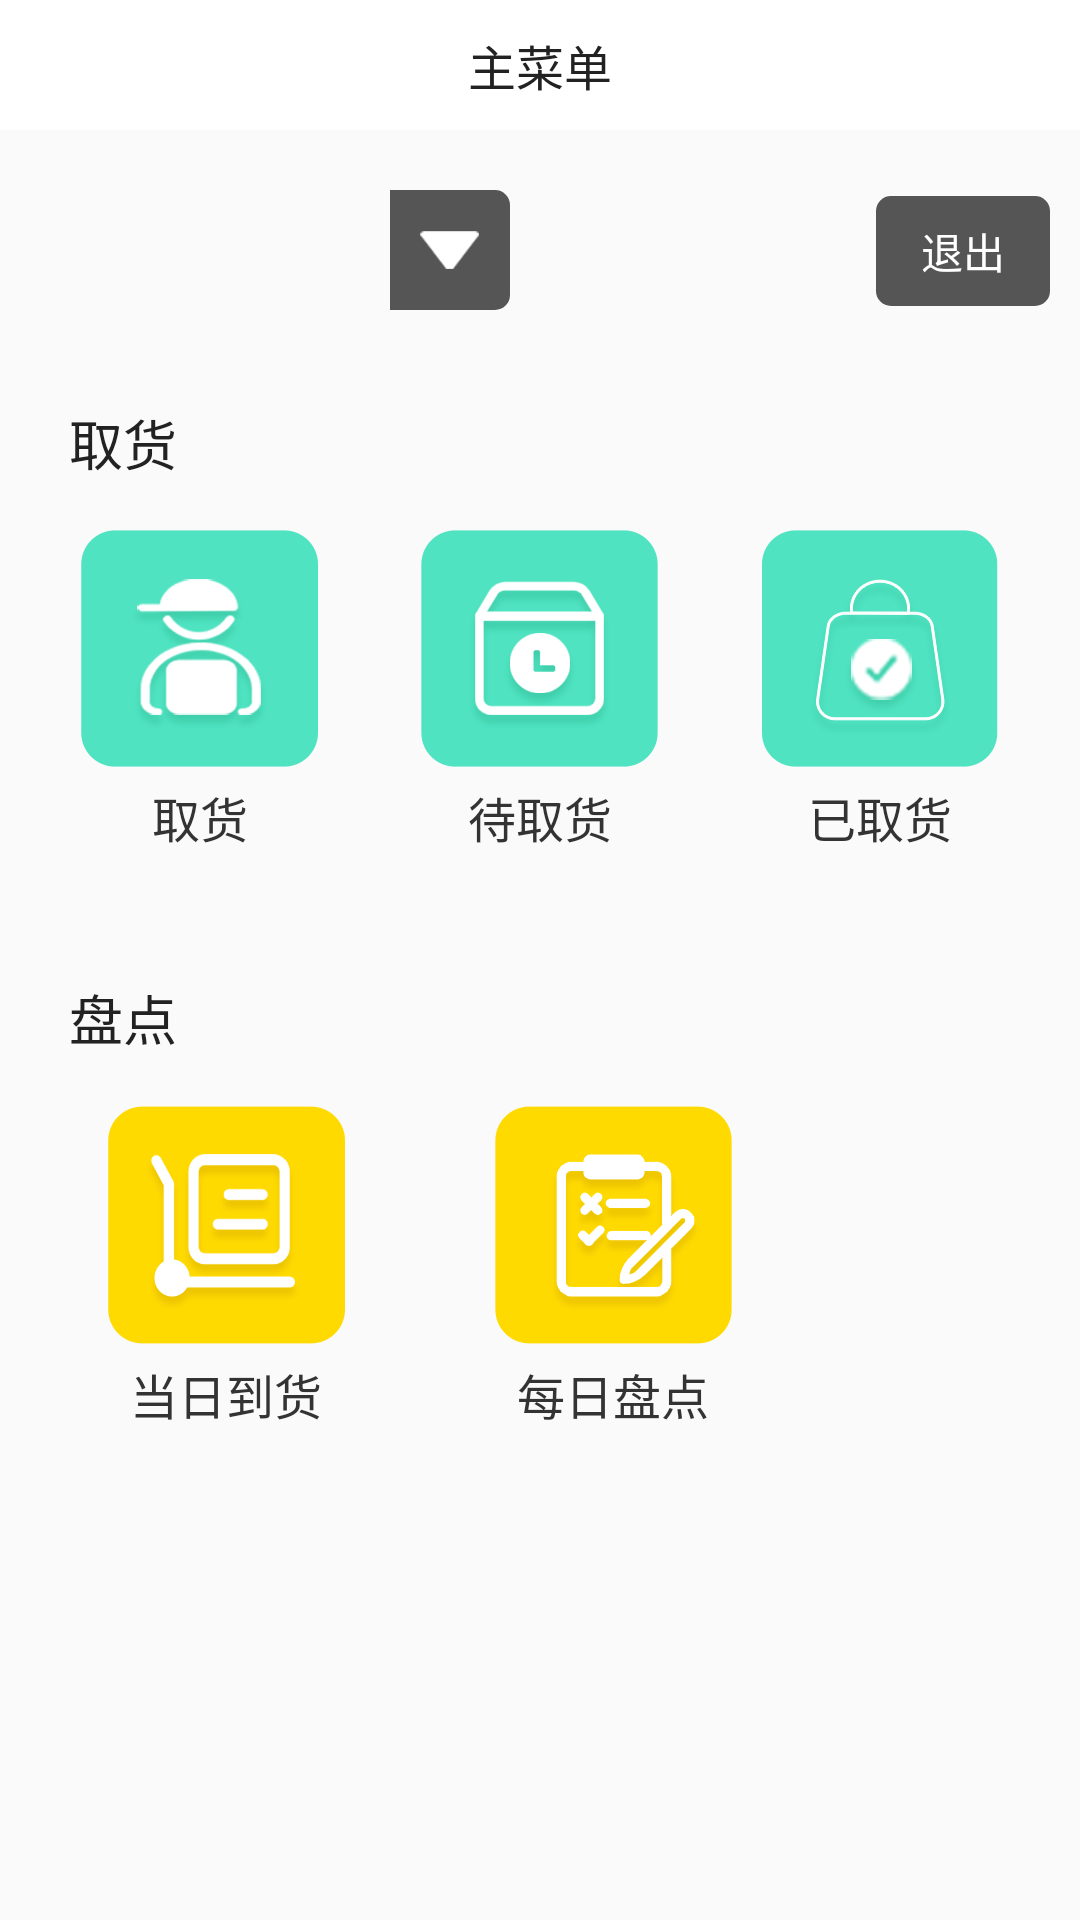

Where icons sit on this 1080 x 1920 app screen, as (x1, y1, x2, y2):
arrow down: (420, 231, 479, 269)
